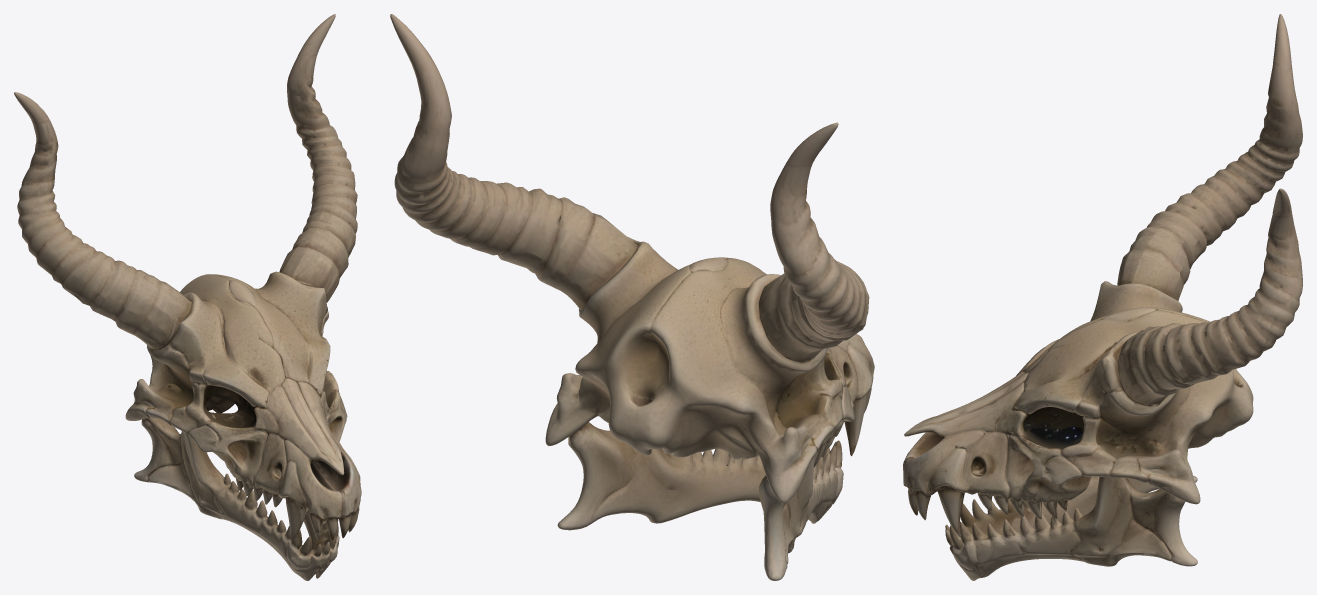
File: dragonskull.glb
3 renders of one model, left to right at view 1: azimuth 30°, elevation 25°; view 2: azimuth 150°, elevation 25°; view 3: azimuth 270°, elevation 25°, orthographic. The views are drawn at different scales.
Visible parts, largest first — view 1: material; view 2: material; view 3: material.
Part boxes in pixels (x1=…): material: x1=14, y1=14, x2=361, y2=580; material: x1=390, y1=14, x2=874, y2=580; material: x1=903, y1=14, x2=1302, y2=580.
Bounding box in the file's own units: 0.6578 × 0.831 × 0.6324.
Materials: 1 (1 with a texture image).
